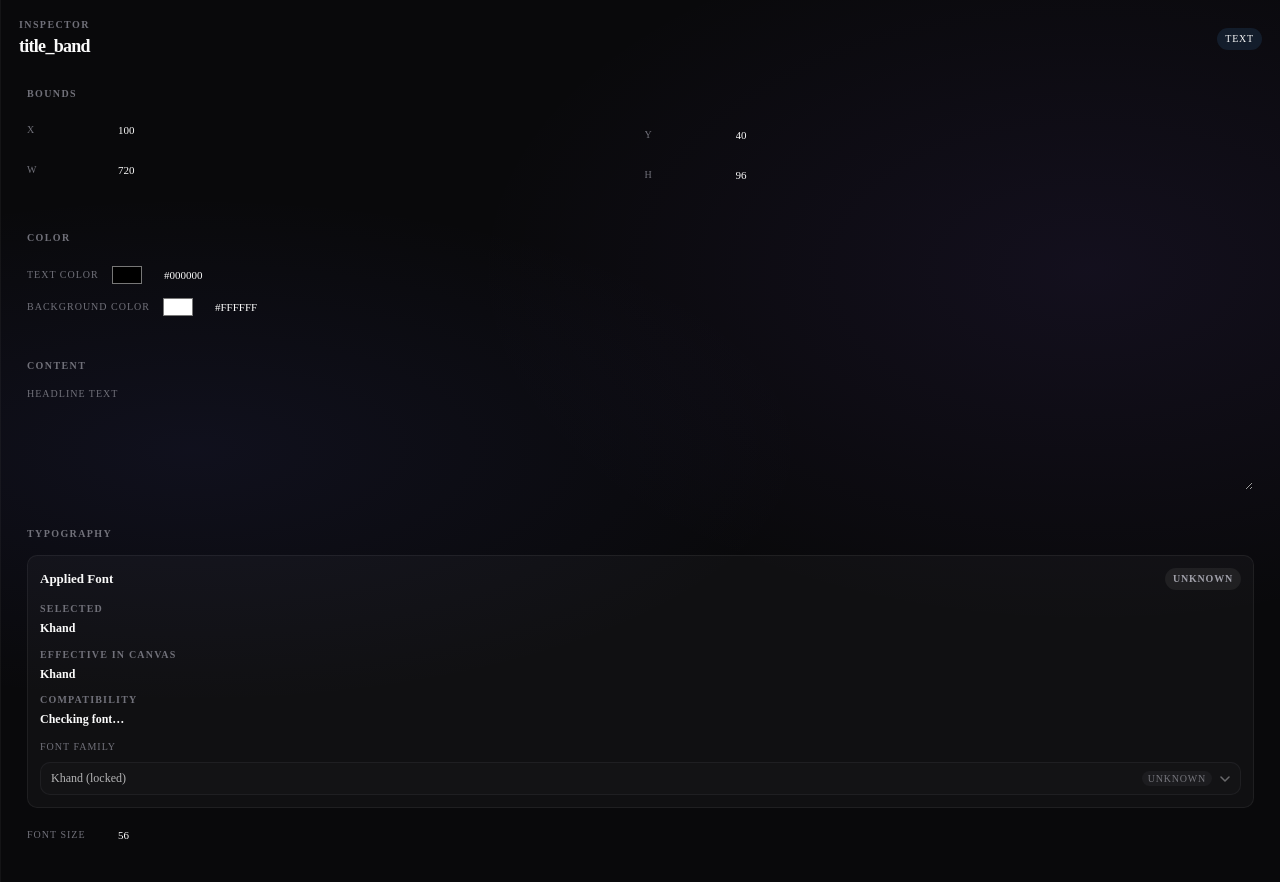
Property inspector numeric inputs › reverts the current draft on Escape without committing
Replace the text in the field named "bounds x" with "44": x=149, y=130 [107,115,191,145]
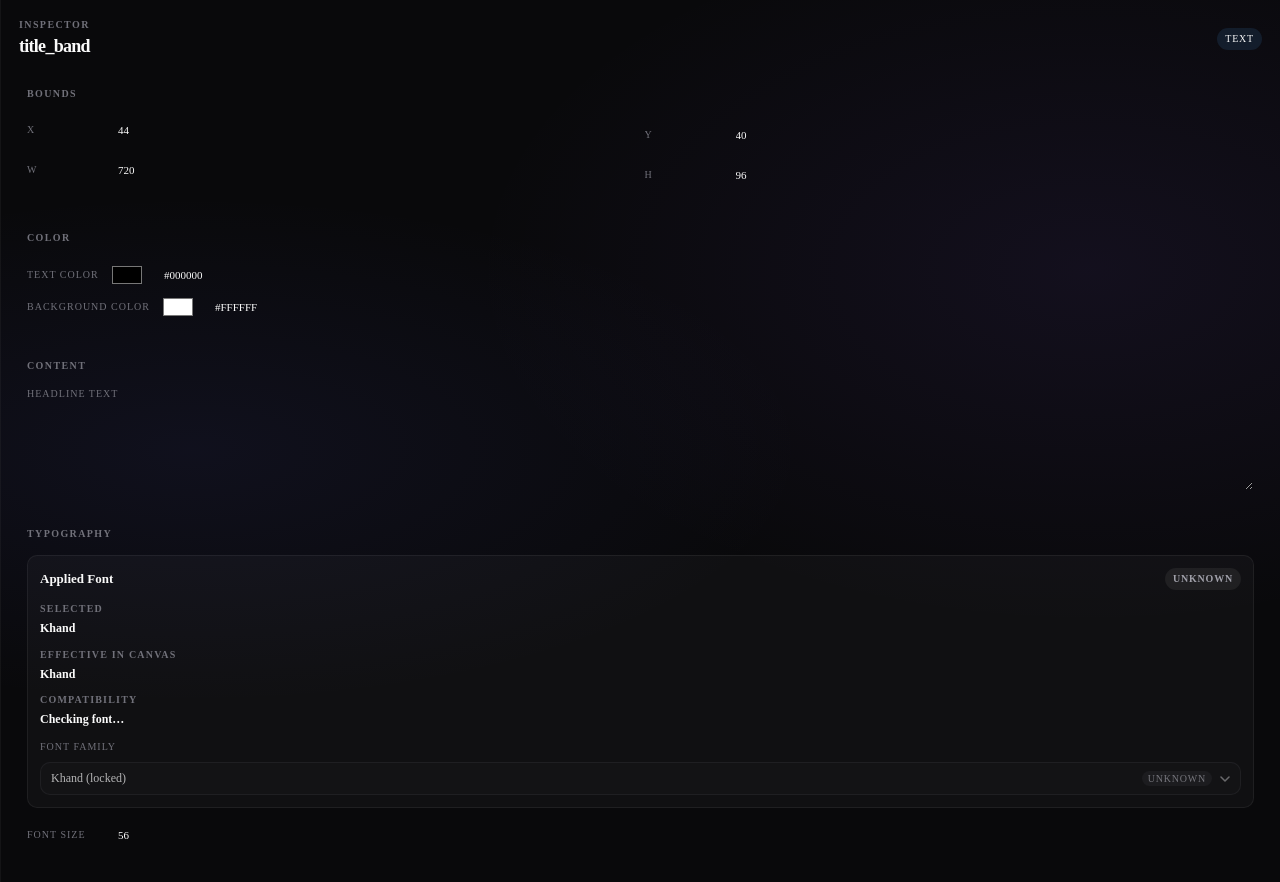
Press Escape in the field named "bounds x", box [107,115,191,145]
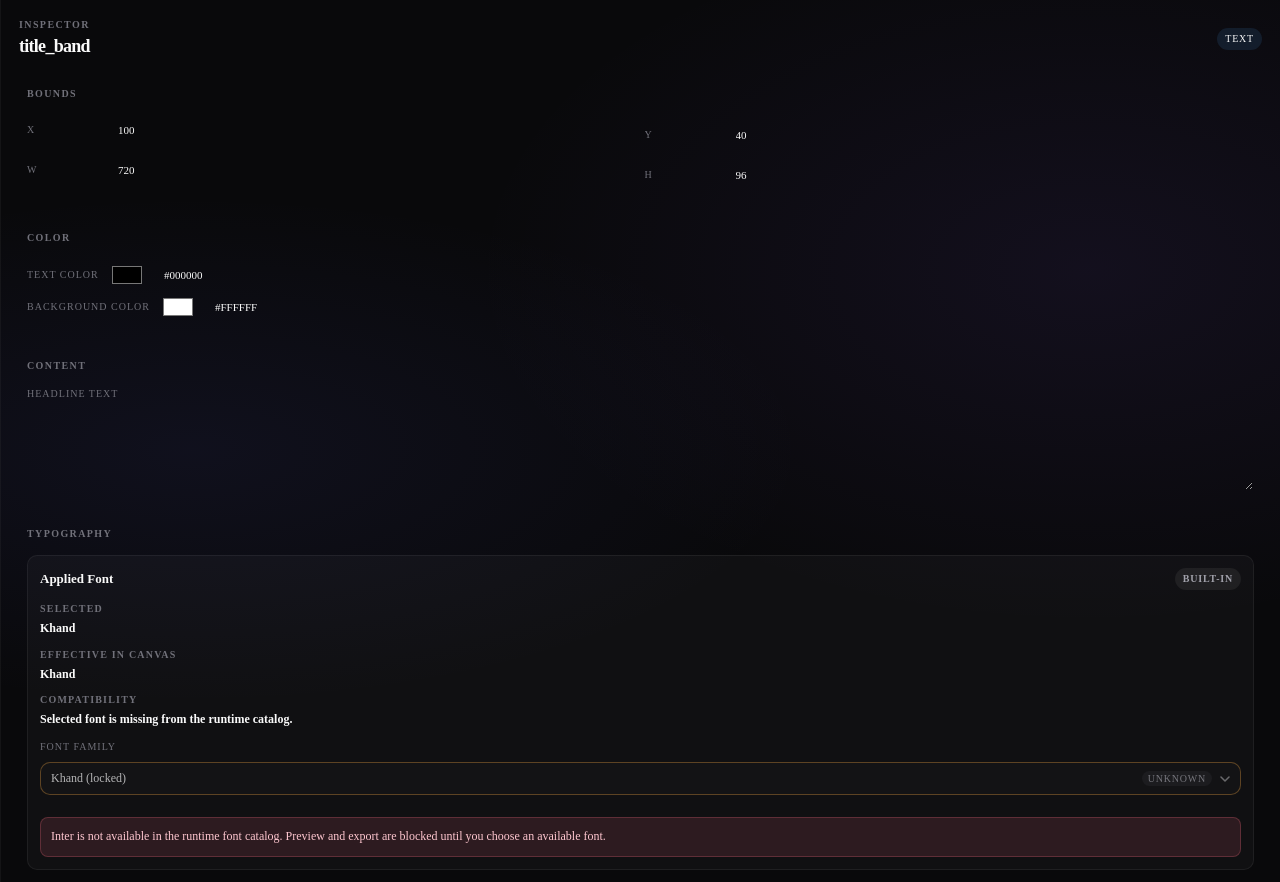
Expected: the field named "bounds x" holds "100", [107,115,191,145]
